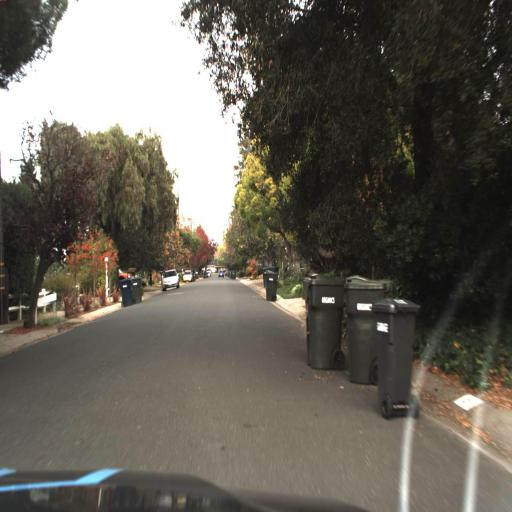car: (158, 266, 182, 294), (162, 267, 180, 289), (116, 264, 130, 286)
